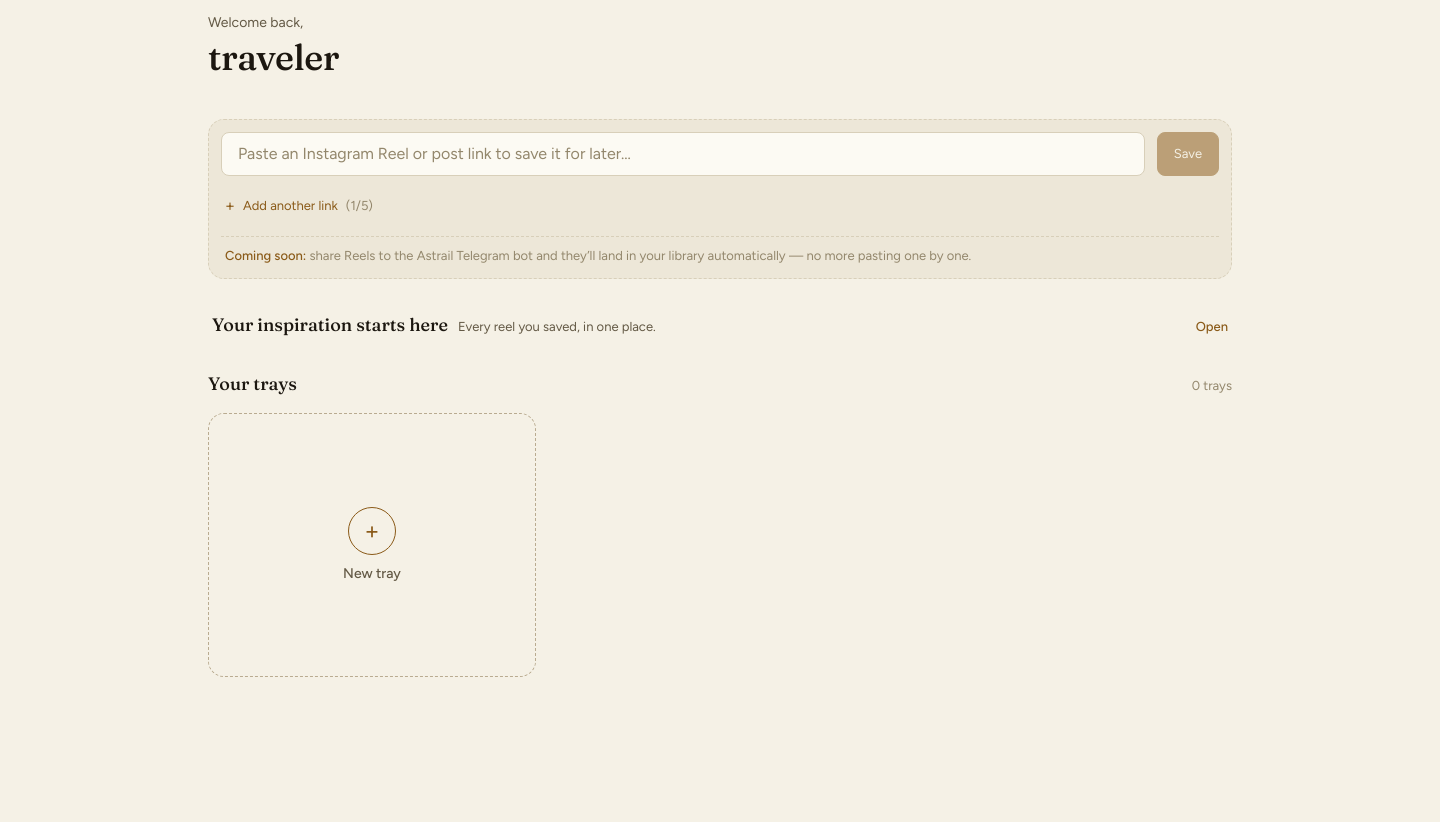
TraysScreen › adds capture rows with the + button and saves every pasted link
Click the button "+ Add another link (1/5)". click: (299, 206)
box: [221,184,377,228]
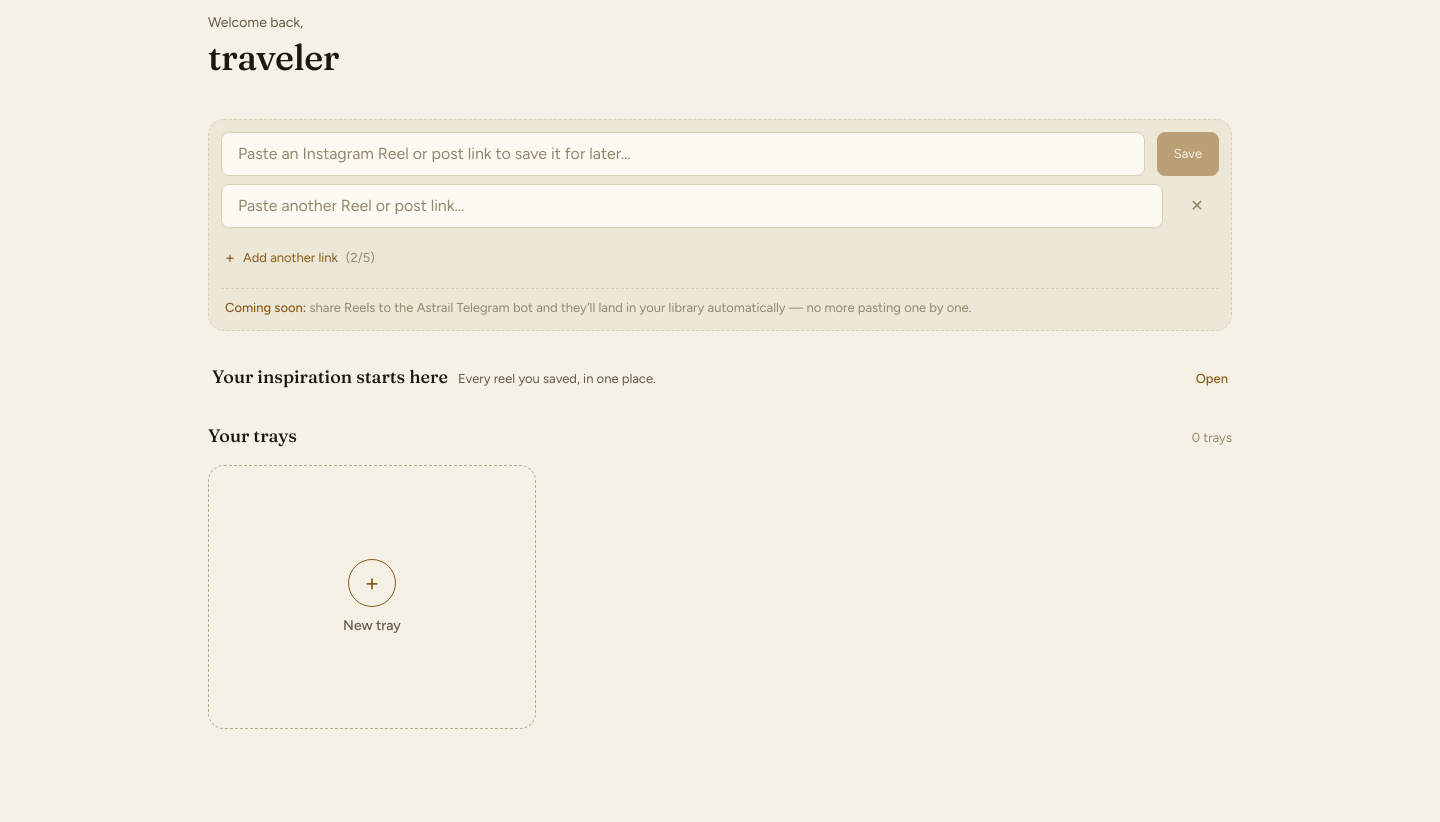
Click the button "+ Add another link (2/5)". click: (300, 258)
box: [221,236,379,280]
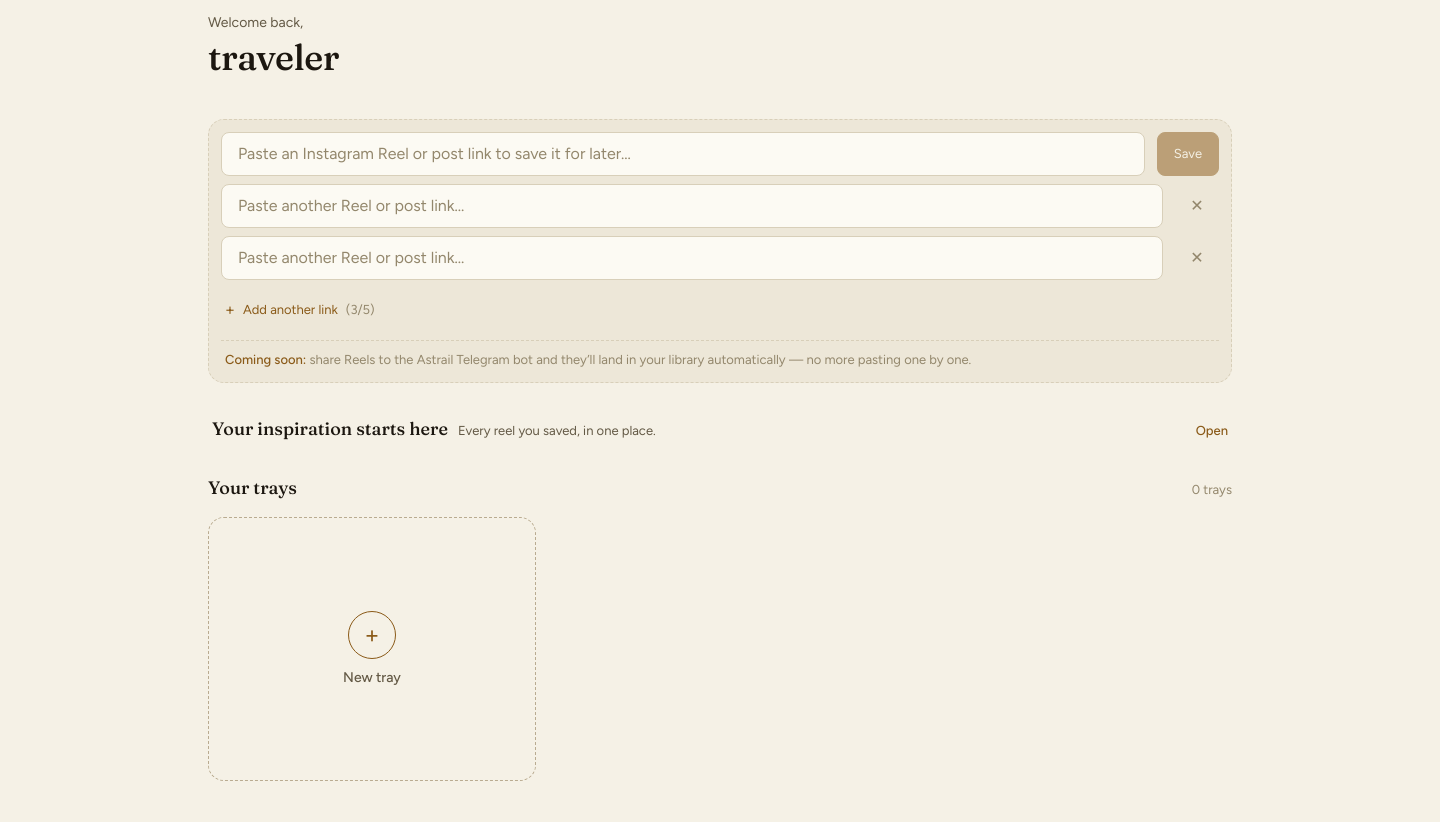
Type "https://www.instagram.com/reel/AAA/" into the field named "Paste a Reel or post link". click: (683, 154)
box: [221,132,1145,176]
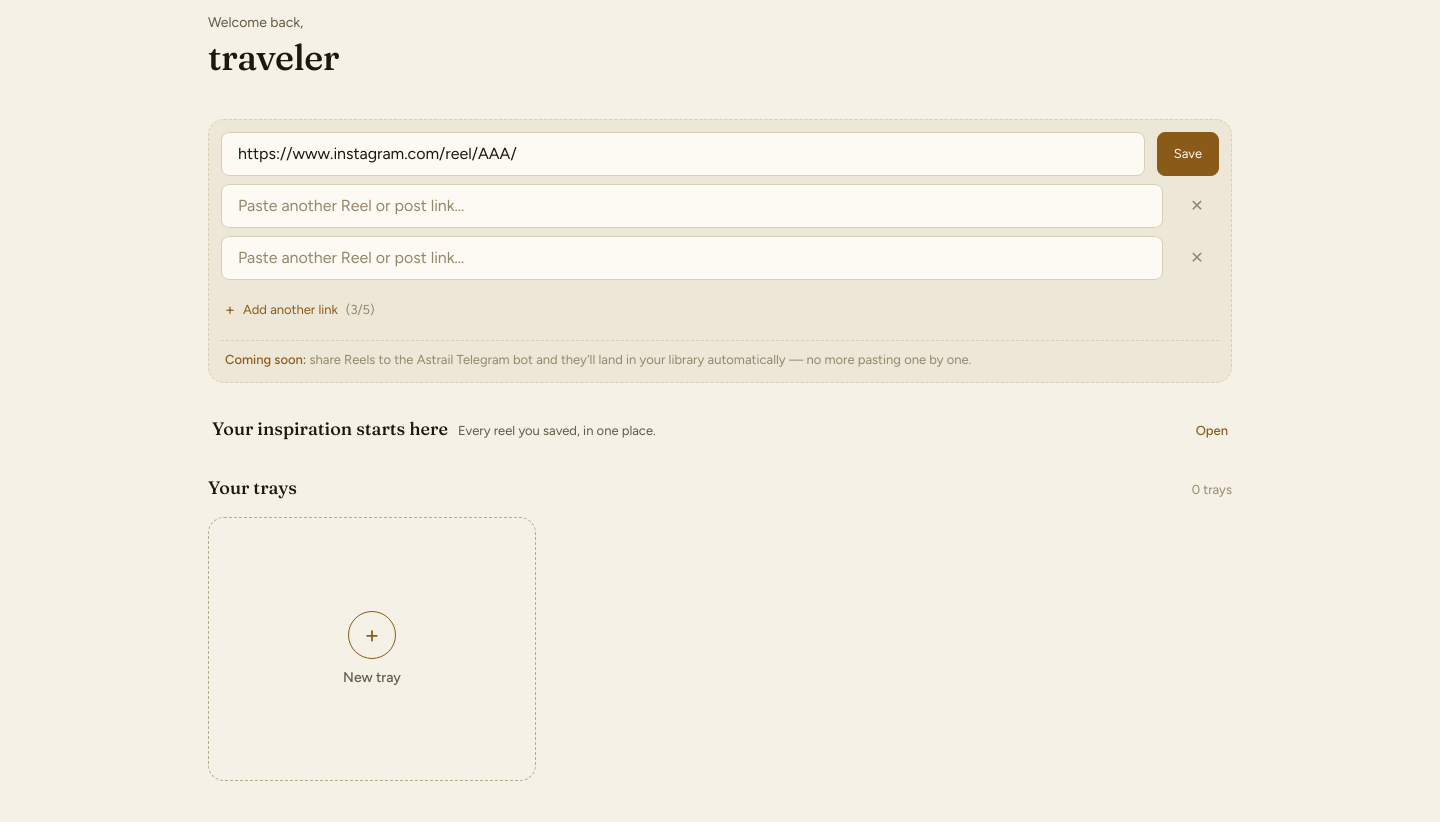
Type "https://www.instagram.com/reel/BBB/" into the field named "Paste a Reel or post link 2". click: (692, 206)
box: [221,184,1163,228]
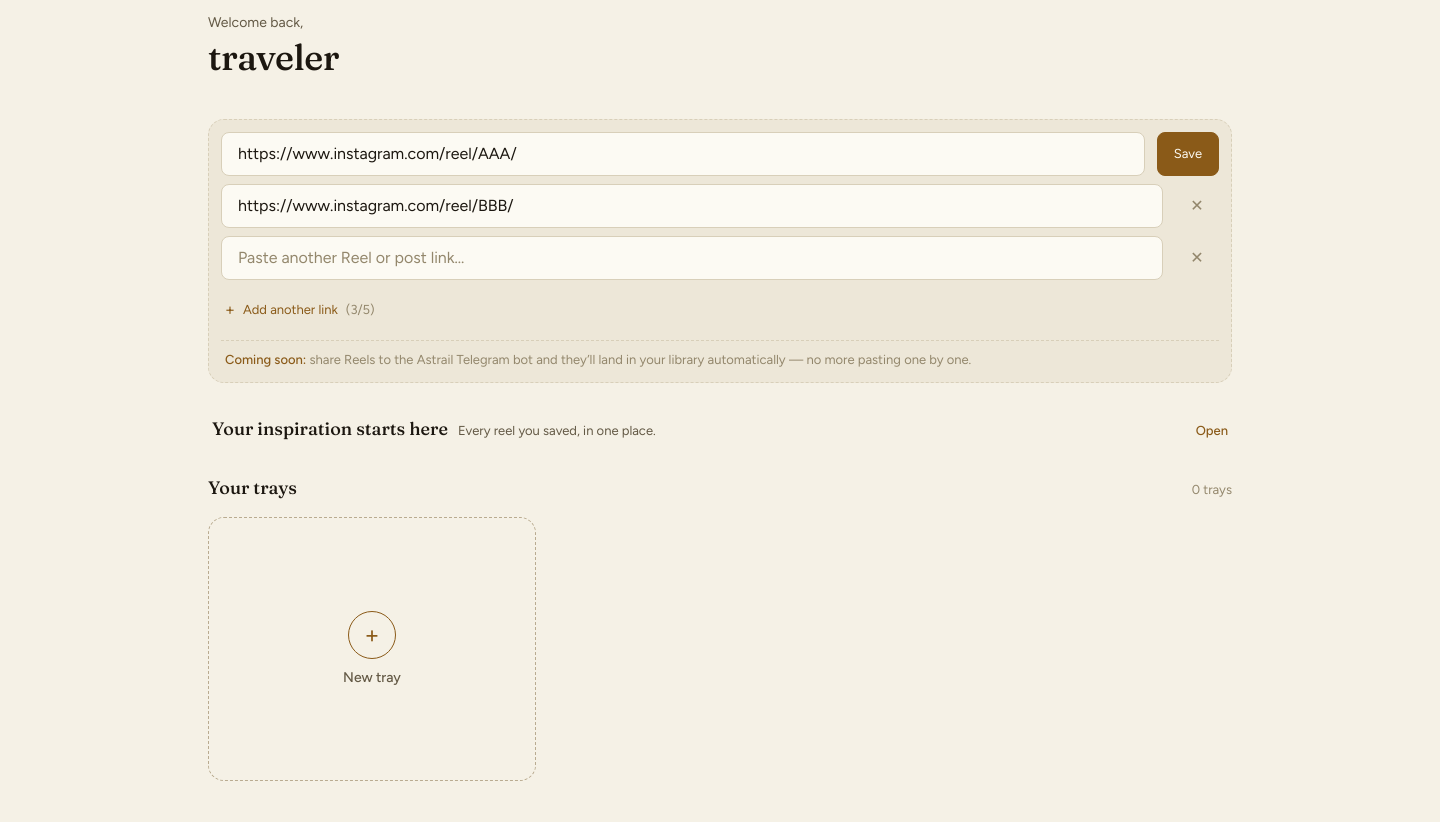
Type "https://www.instagram.com/p/CCC/" into the field named "Paste a Reel or post link 3". click: (692, 258)
box: [221,236,1163,280]
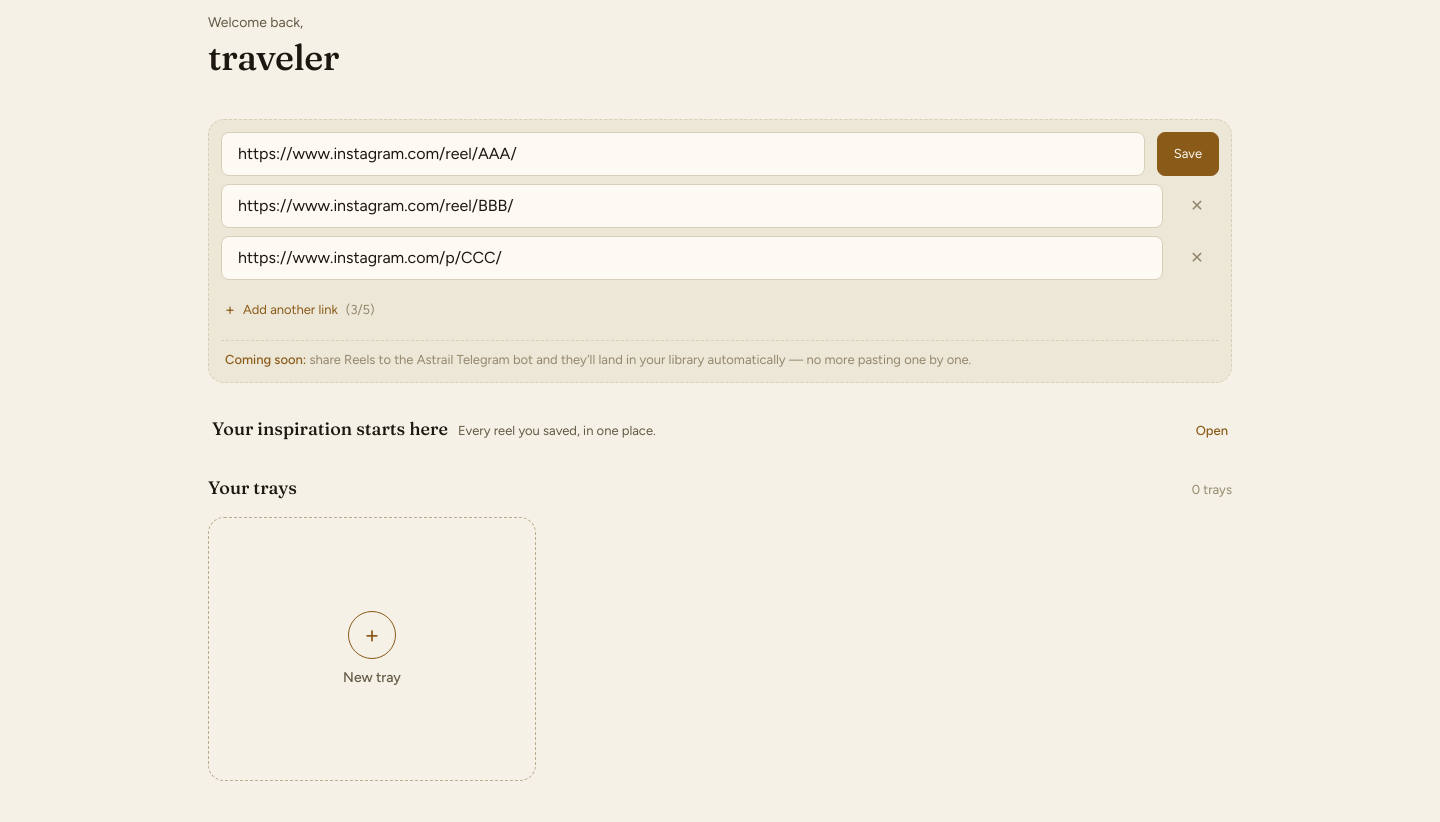
Click the button "Save". click: (1188, 154)
box: [1157,132,1219,176]
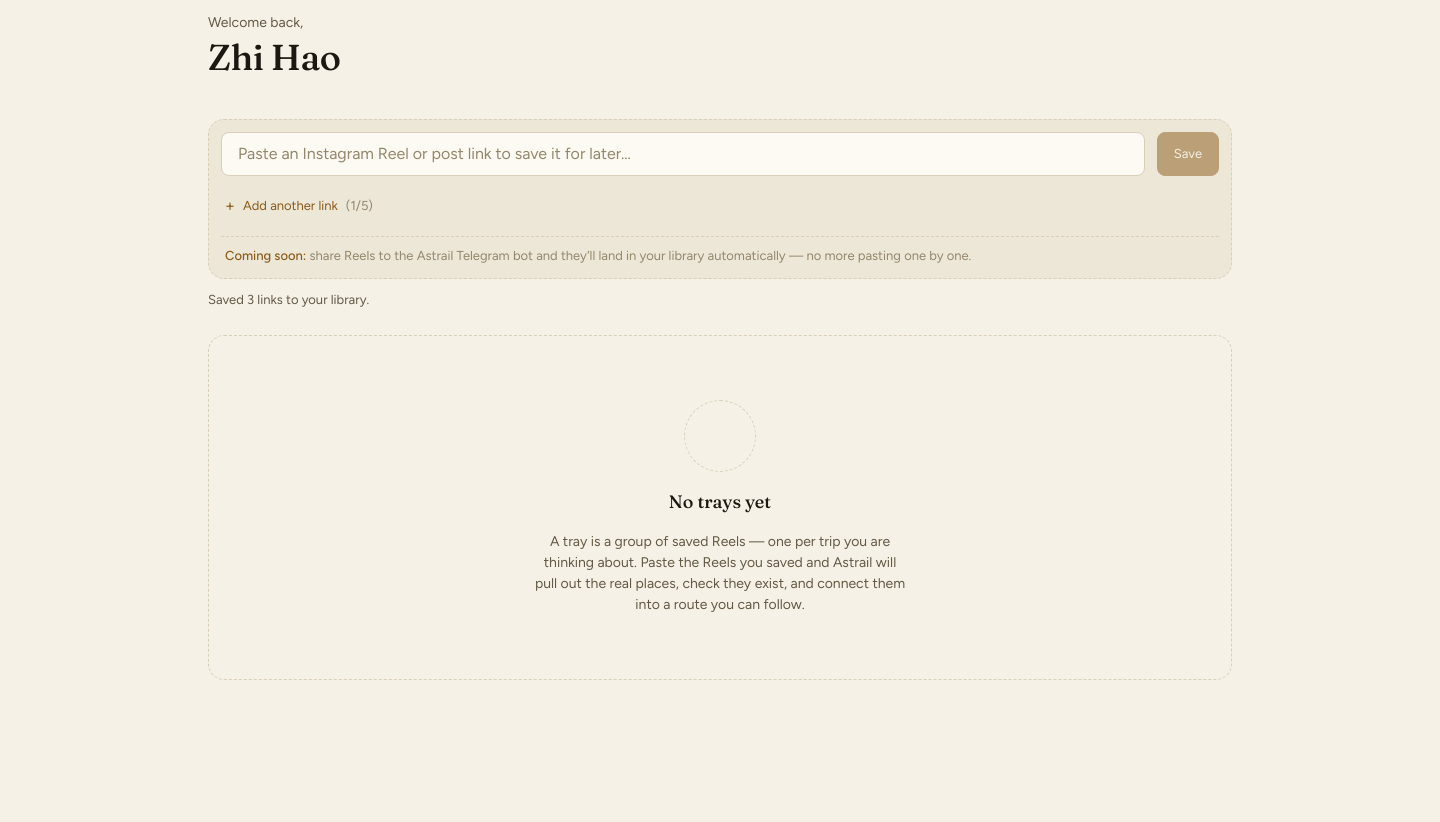
Check: the field labelled "Paste a Reel or post link 2" is not shown
Check: the text "Saved 3 links to your library." is shown, box [208,293,369,308]
